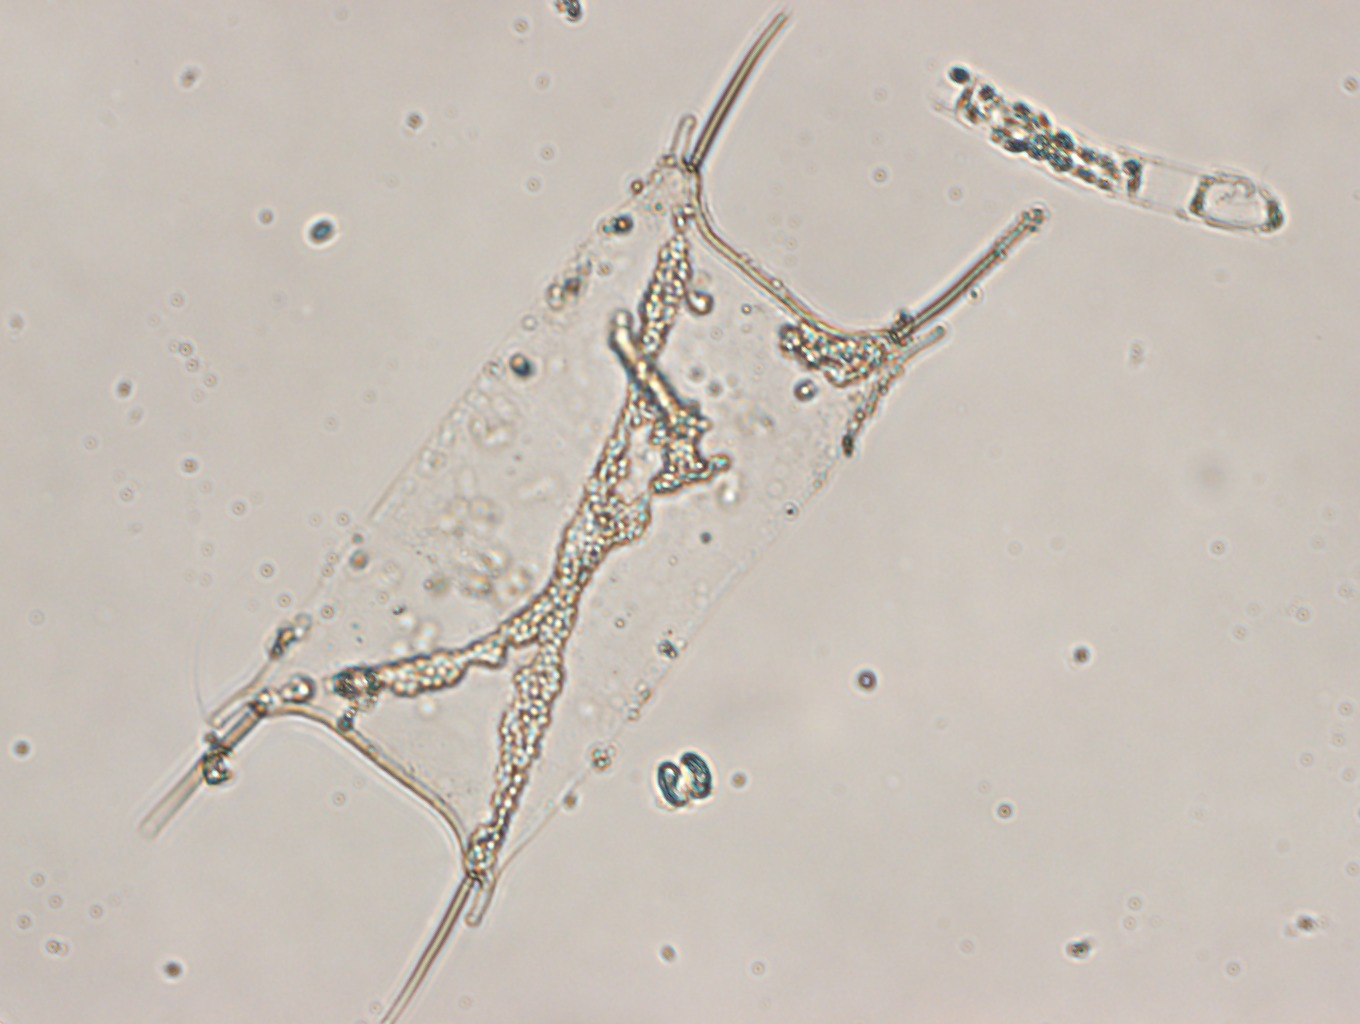biddulphia: (133, 11, 1044, 1024)
